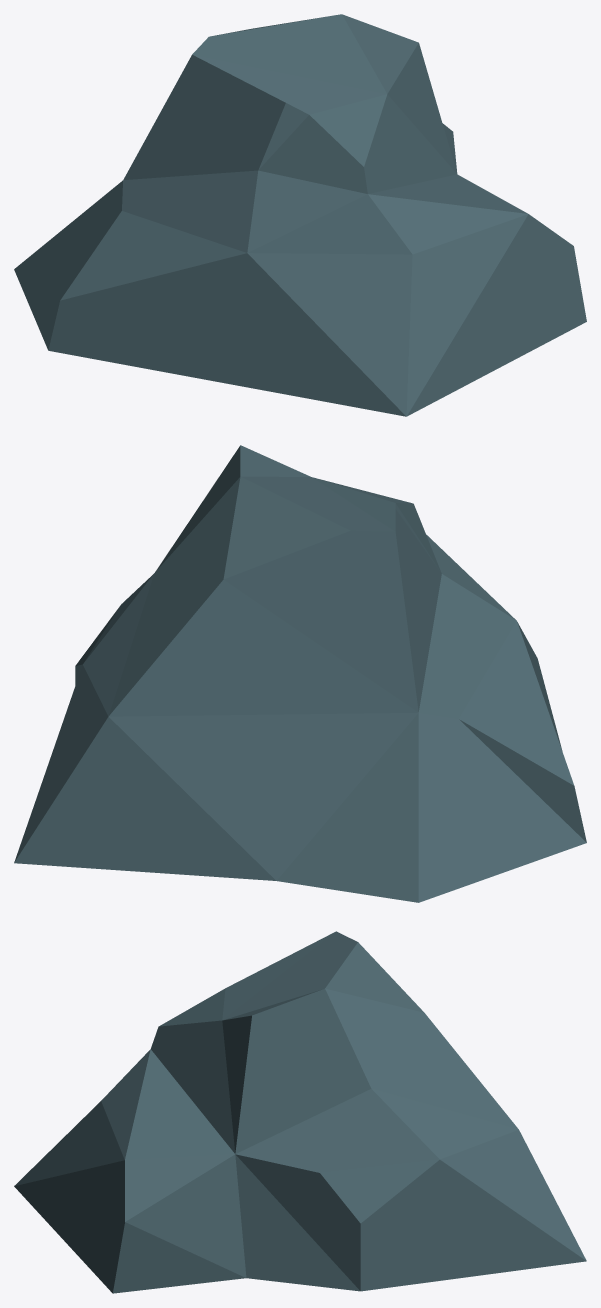
Rendered from tree4.fbx.
The picture shows the model from 3 angles, top to bottom: view 1: azimuth 30°, elevation 25°; view 2: azimuth 150°, elevation 25°; view 3: azimuth 270°, elevation 25°; orthographic projection. The views are drawn at different scales.
Parts seen in each view (by area): view 1: Box012; view 2: Box012; view 3: Box012.
Part boxes in pixels (box(x1,y1,x2,y2)): Box012: box(14, 14, 586, 416); Box012: box(14, 445, 586, 902); Box012: box(14, 931, 586, 1293).
Size of the model in its own units: 5.21 by 2.96 by 6.3.
